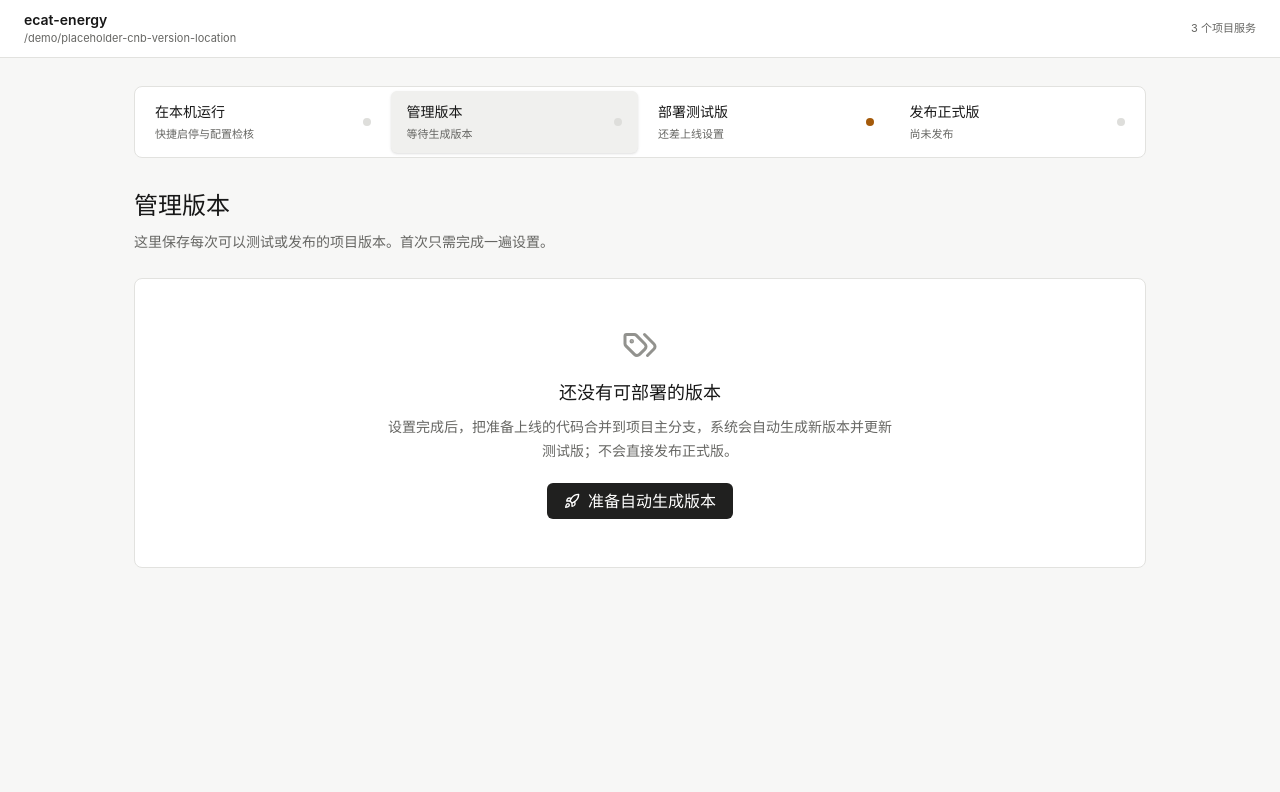
Test case: ProductWorkspace blocking states › does not count a placeholder CNB repository as a prepared version location
Click the button "准备自动生成版本" at (640, 501), box top-left (547, 483), bottom-right (733, 519)
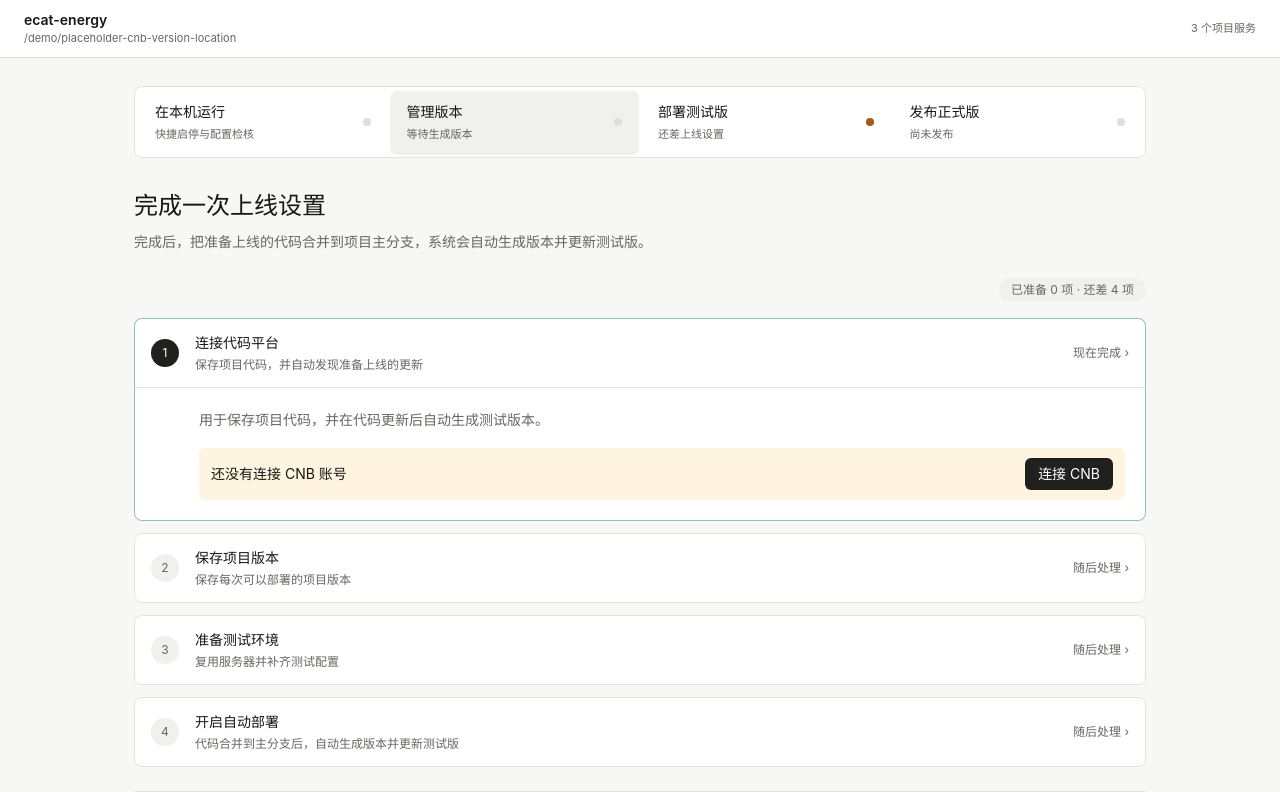
Result: the heading "完成一次上线设置" is shown at top-left (134, 191), bottom-right (326, 220)
Result: the text "已准备 0 项 · 还差 4 项" is shown at top-left (1011, 282), bottom-right (1134, 298)
Result: the button "2 保存项目版本 保存每次可以部署的项目版本 随后处理 ›" is shown
Click the button "2 保存项目版本 保存每次可以部署的项目版本 随后处理 ›" at (237, 558), box top-left (135, 534), bottom-right (1145, 602)
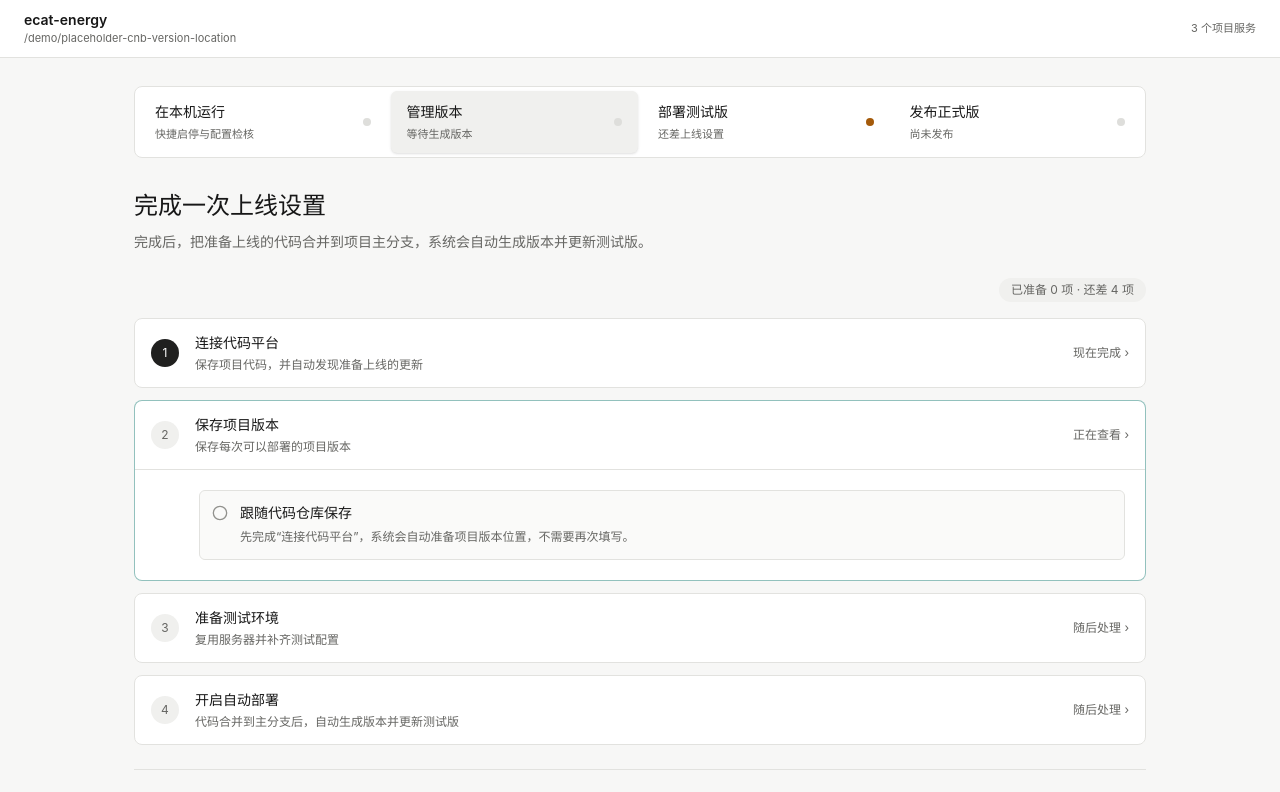
Result: the text "跟随代码仓库保存" is shown at top-left (240, 504), bottom-right (352, 521)
Result: the text "先完成“连接代码平台”，系统会自动准备项目版本位置，不需要再次填写。" is shown at top-left (240, 527), bottom-right (635, 547)
Click the button "3 准备测试环境 复用服务器并补齐测试配置 随后处理 ›" at (237, 618), box top-left (135, 594), bottom-right (1145, 662)
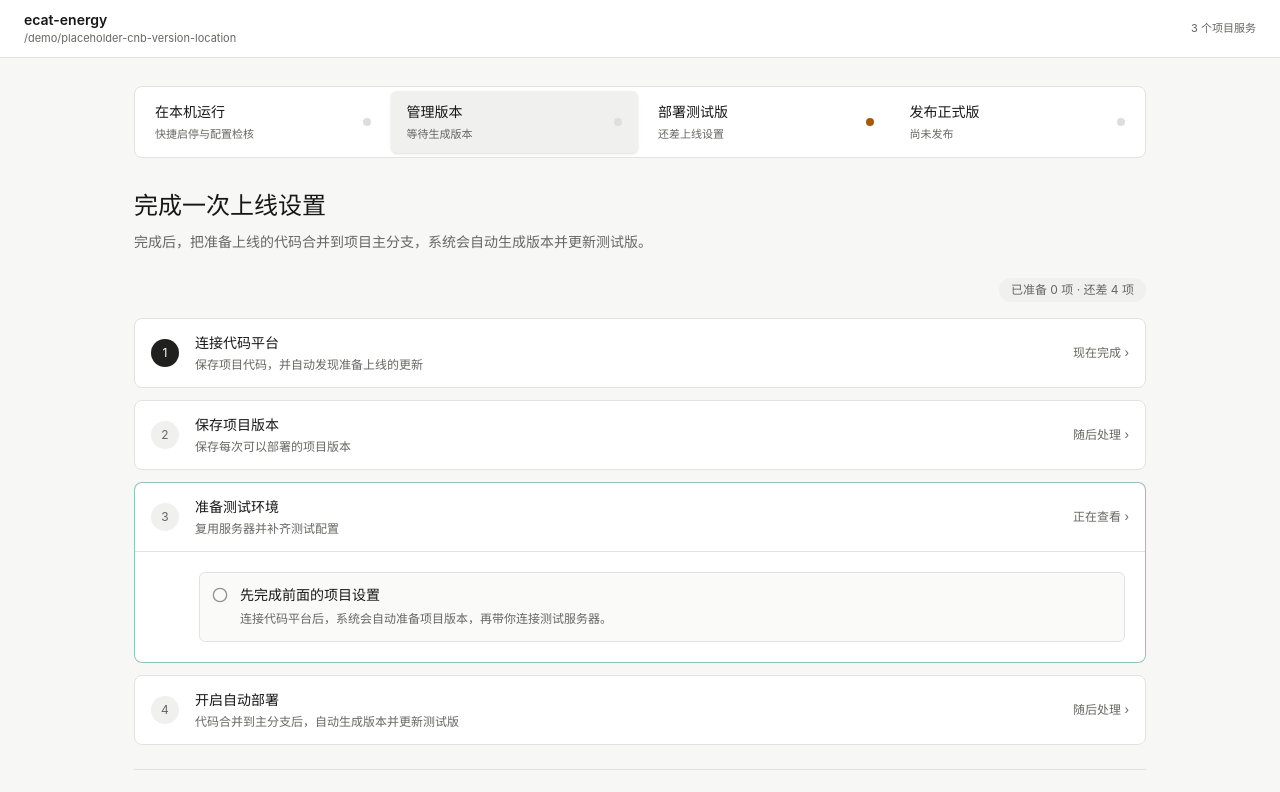
Result: the text "先完成前面的项目设置" is shown at top-left (240, 586), bottom-right (380, 603)
Click the button "4 开启自动部署 代码合并到主分支后，自动生成版本并更新测试版 随后处理 ›" at (237, 700), box top-left (135, 676), bottom-right (1145, 744)
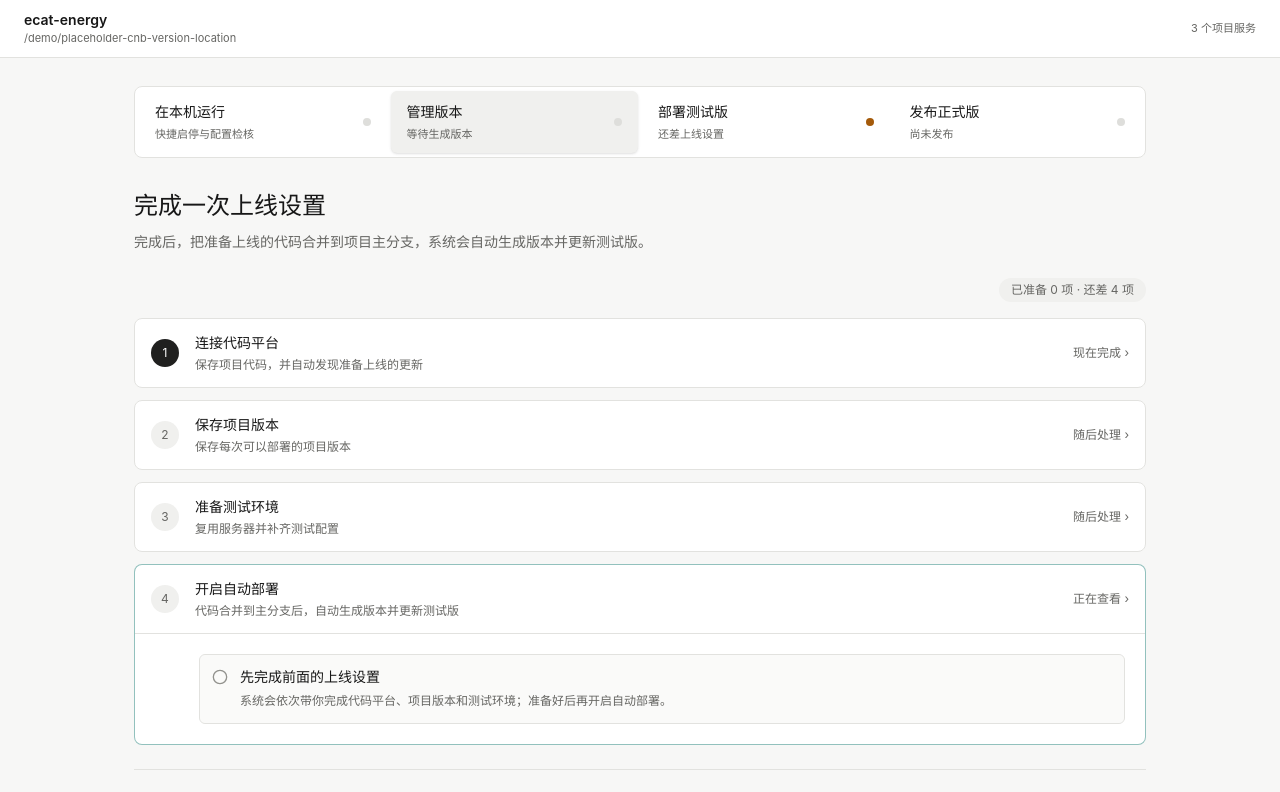
Result: the text "先完成前面的上线设置" is shown at top-left (240, 668), bottom-right (380, 685)
